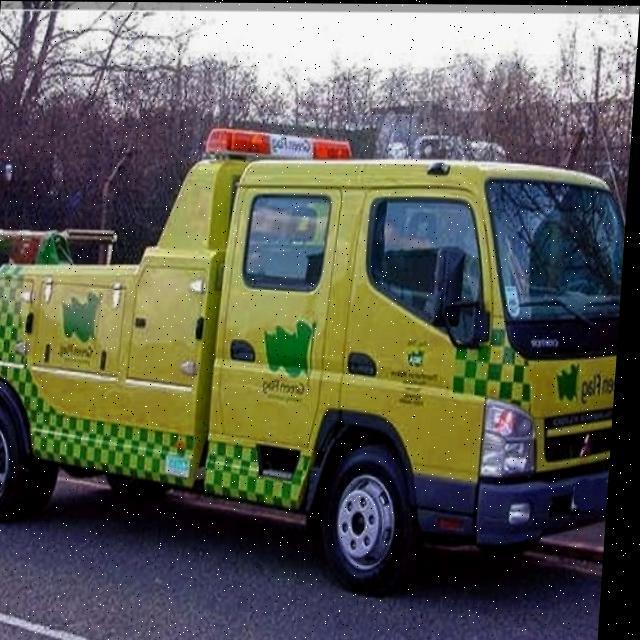truck: (0, 122, 630, 598)
